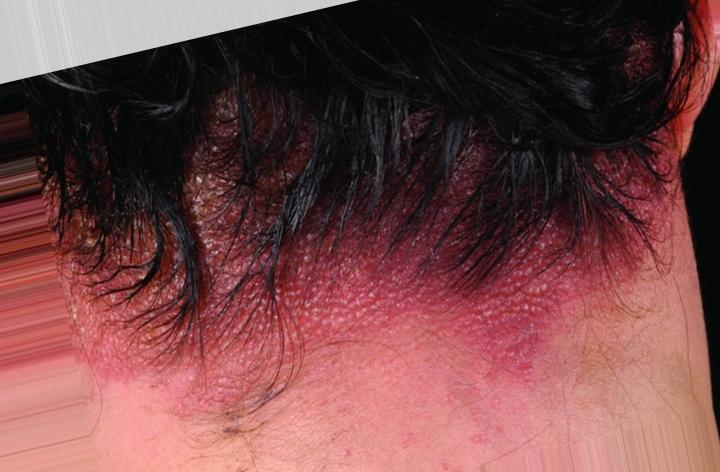Contact Dermatitis: (54, 139, 650, 341)
